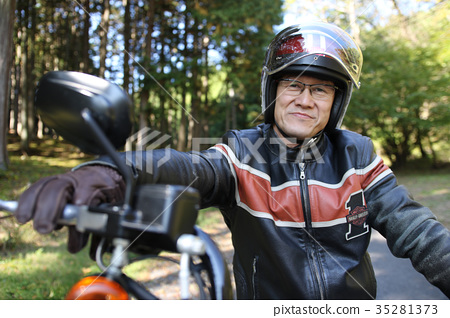helmet: (260, 25, 364, 124)
